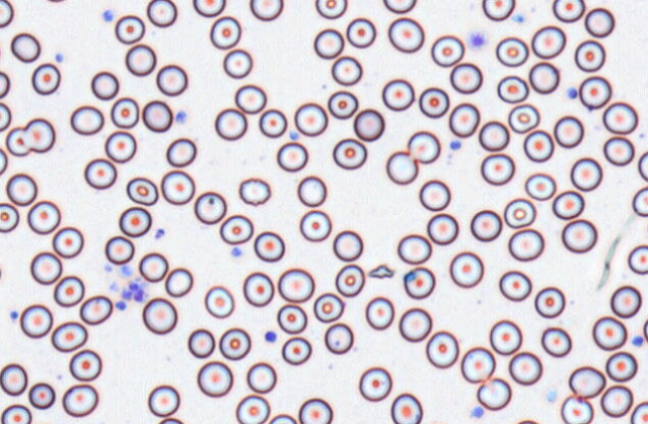PLT: (467, 29, 490, 52), (469, 403, 485, 419), (228, 246, 245, 260), (630, 334, 644, 351), (6, 307, 21, 322), (263, 329, 277, 345), (175, 109, 188, 125), (448, 138, 462, 152), (102, 9, 116, 22), (566, 85, 578, 100), (133, 291, 148, 303), (128, 279, 141, 292), (115, 300, 129, 312), (288, 129, 300, 142), (121, 289, 134, 301), (54, 52, 65, 63), (512, 14, 524, 24)
RBC: (196, 360, 233, 397), (460, 346, 495, 383), (387, 17, 424, 52), (142, 297, 177, 334), (277, 267, 314, 302), (425, 330, 459, 368), (160, 169, 195, 205), (561, 218, 597, 253), (449, 251, 483, 288), (592, 315, 627, 350), (62, 383, 98, 417), (568, 365, 605, 398), (507, 228, 544, 261), (398, 307, 432, 342), (358, 366, 392, 401), (531, 25, 566, 59), (489, 319, 522, 355), (602, 101, 638, 134), (508, 351, 542, 385), (26, 200, 60, 234), (293, 102, 327, 136), (476, 377, 511, 410), (19, 303, 52, 338), (50, 321, 87, 352), (385, 150, 418, 184), (430, 34, 464, 67), (578, 75, 611, 109), (23, 117, 55, 152), (332, 137, 367, 169), (570, 156, 602, 191), (242, 271, 274, 306), (600, 384, 633, 417), (147, 384, 180, 417), (218, 327, 251, 360), (407, 130, 440, 163), (402, 266, 435, 299), (214, 107, 247, 140), (193, 191, 226, 224), (381, 78, 414, 111), (68, 349, 102, 381), (209, 15, 241, 49), (83, 157, 117, 189), (610, 284, 642, 318), (480, 153, 514, 185), (448, 102, 479, 137), (5, 172, 37, 205), (30, 251, 62, 284), (124, 43, 156, 76), (155, 63, 187, 96), (104, 130, 136, 163), (449, 62, 482, 94), (426, 212, 458, 245), (299, 209, 331, 242), (334, 263, 365, 297), (397, 233, 431, 264), (390, 392, 422, 424), (418, 179, 450, 211), (253, 230, 285, 262), (470, 209, 502, 241), (353, 108, 384, 141), (79, 294, 112, 325), (118, 206, 151, 237), (70, 104, 103, 135), (503, 197, 536, 228), (528, 61, 559, 94), (523, 129, 554, 162), (495, 36, 528, 67), (498, 270, 531, 301), (553, 115, 584, 148), (141, 99, 172, 132), (574, 39, 605, 72), (364, 296, 394, 330), (219, 214, 253, 244), (235, 394, 270, 423), (53, 275, 84, 307), (605, 351, 637, 382), (234, 83, 266, 114), (418, 86, 449, 118), (332, 229, 363, 261), (52, 226, 83, 258), (276, 141, 308, 172), (534, 286, 565, 318), (204, 285, 234, 318), (276, 303, 307, 334), (313, 28, 344, 59), (478, 120, 509, 151), (540, 326, 571, 357), (246, 361, 276, 393), (330, 55, 362, 85), (507, 103, 539, 133), (552, 189, 584, 219), (560, 394, 593, 423), (31, 62, 60, 95), (138, 251, 168, 282), (313, 292, 344, 322), (346, 17, 376, 48), (296, 175, 326, 206), (165, 137, 196, 167), (114, 14, 145, 44), (603, 136, 634, 166), (584, 7, 615, 37), (324, 322, 353, 354), (126, 176, 158, 205), (110, 96, 139, 128), (0, 362, 27, 396), (10, 32, 40, 62), (222, 48, 252, 78), (327, 90, 358, 119), (238, 177, 270, 205), (524, 172, 556, 200), (298, 397, 332, 423), (164, 267, 193, 297), (281, 336, 311, 365), (104, 235, 134, 264), (90, 70, 119, 100), (258, 108, 287, 138), (497, 75, 528, 103), (187, 328, 215, 358), (146, 0, 177, 27), (5, 126, 30, 156), (28, 382, 55, 409), (552, 0, 585, 22), (249, 0, 283, 21), (482, 0, 515, 21), (627, 244, 648, 274), (314, 0, 347, 19), (0, 403, 31, 423), (0, 202, 19, 232), (192, 0, 225, 17), (632, 186, 647, 217), (382, 0, 416, 13), (0, 0, 14, 28), (630, 401, 647, 423), (637, 150, 648, 181), (0, 101, 11, 131), (268, 413, 297, 423), (0, 70, 10, 98), (0, 146, 7, 175), (157, 417, 183, 424), (421, 419, 451, 424), (514, 418, 539, 424), (643, 316, 648, 342), (644, 217, 648, 241), (0, 37, 3, 64), (44, 0, 69, 3)
Schistocyte: (367, 262, 397, 280)
